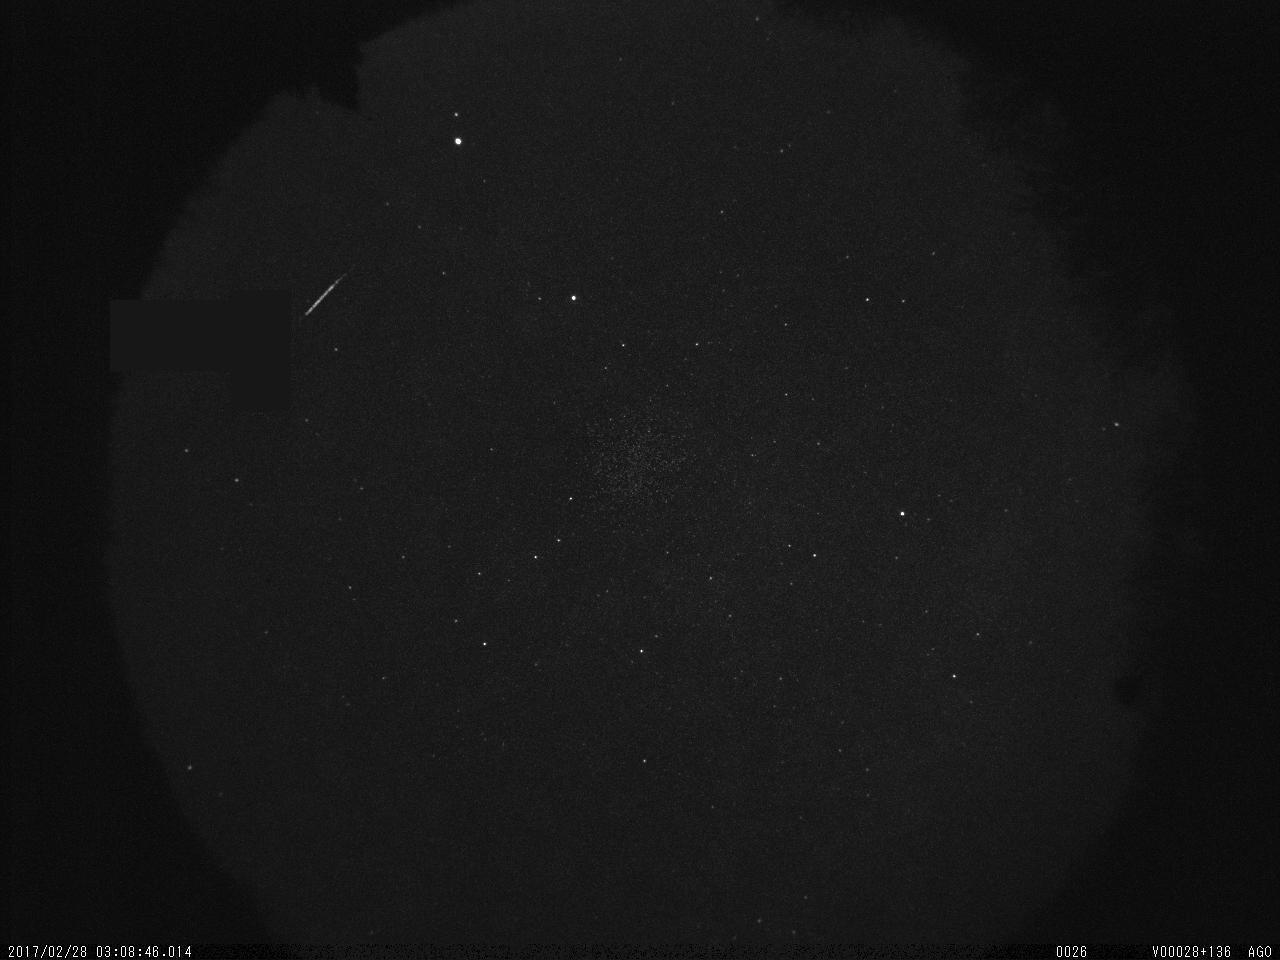Meteor: (299, 266, 356, 320)
